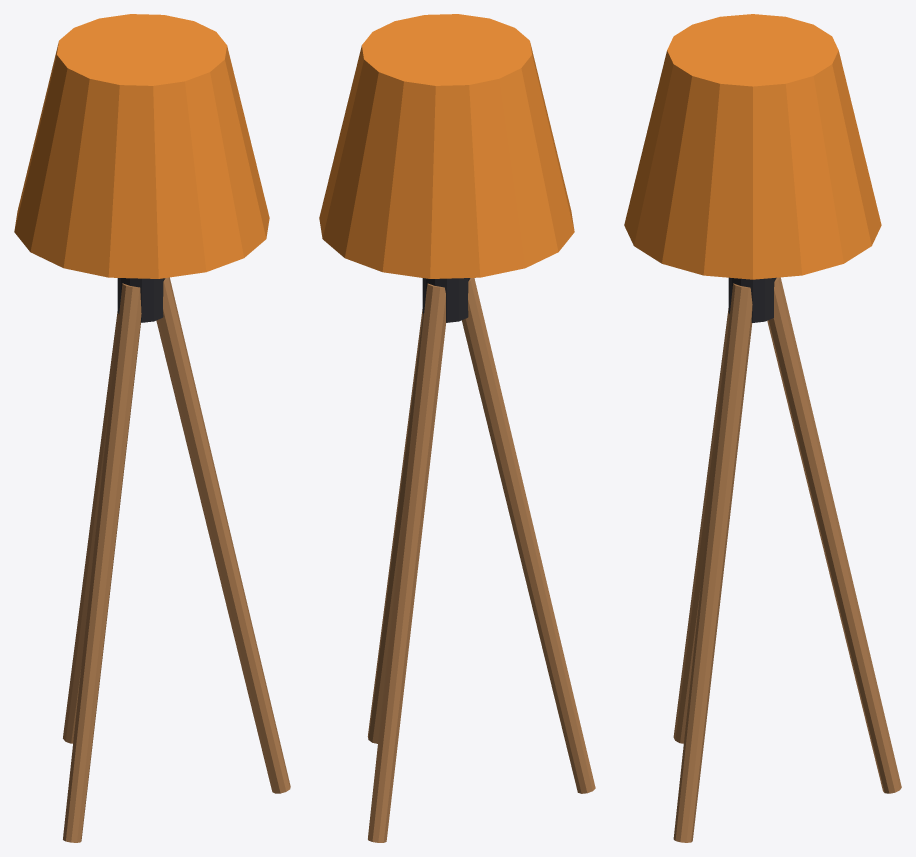
File: FloorLamp.obj
3 views of the same model, side by side, from view 1: azimuth 30°, elevation 25°; view 2: azimuth 150°, elevation 25°; view 3: azimuth 270°, elevation 25° (orthographic).
Visible parts, largest first — view 1: FloorLamp_Lamp_WarmOrange, FloorLamp_Wood_Oak, FloorLamp_Metal_Charcoal; view 2: FloorLamp_Lamp_WarmOrange, FloorLamp_Wood_Oak, FloorLamp_Metal_Charcoal; view 3: FloorLamp_Lamp_WarmOrange, FloorLamp_Wood_Oak, FloorLamp_Metal_Charcoal.
Boxes of the visible parts, x1=… form: FloorLamp_Lamp_WarmOrange: x1=14, y1=14, x2=269, y2=278; FloorLamp_Wood_Oak: x1=63, y1=277, x2=290, y2=842; FloorLamp_Metal_Charcoal: x1=117, y1=278, x2=165, y2=322; FloorLamp_Lamp_WarmOrange: x1=319, y1=14, x2=574, y2=278; FloorLamp_Wood_Oak: x1=367, y1=278, x2=595, y2=842; FloorLamp_Metal_Charcoal: x1=422, y1=278, x2=470, y2=322; FloorLamp_Lamp_WarmOrange: x1=624, y1=14, x2=881, y2=279; FloorLamp_Wood_Oak: x1=673, y1=277, x2=901, y2=842; FloorLamp_Metal_Charcoal: x1=728, y1=277, x2=776, y2=322.
Size of the model in its own units: 0.484 by 1.52 by 0.5176.
